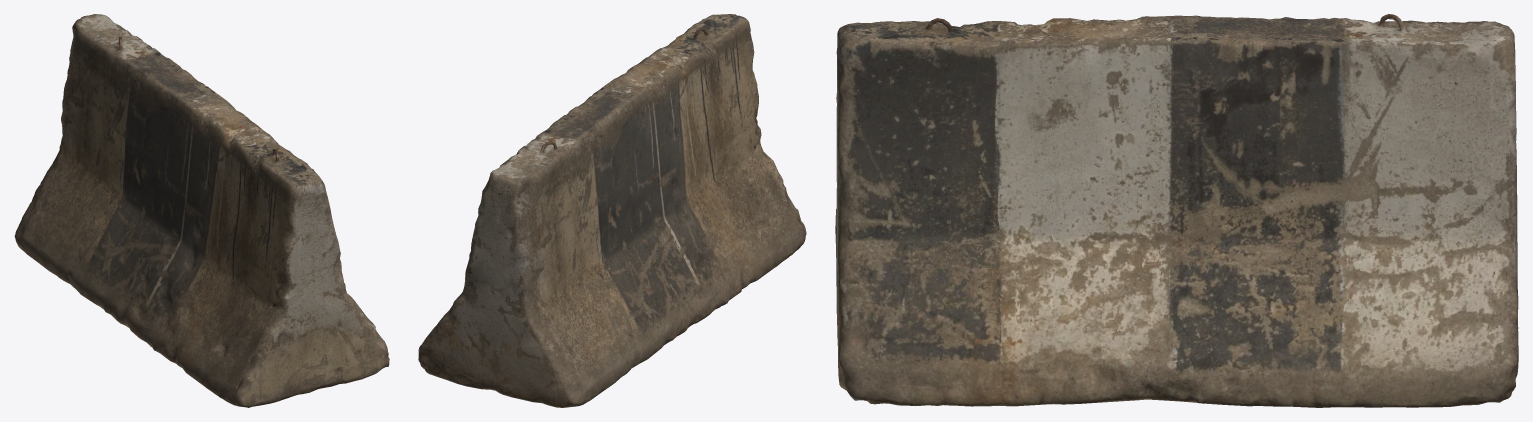
File: concrete_road_barrier.glb
3 renders of one model, left to right at view 1: azimuth 30°, elevation 25°; view 2: azimuth 150°, elevation 25°; view 3: azimuth 270°, elevation 25°, orthographic. The views are drawn at different scales.
Visible parts, largest first — view 1: concrete_road_barrier; view 2: concrete_road_barrier; view 3: concrete_road_barrier.
Part boxes in pixels (left/top/right/bottom): concrete_road_barrier: left=14, top=14, right=389, bottom=407; concrete_road_barrier: left=418, top=14, right=806, bottom=407; concrete_road_barrier: left=835, top=14, right=1518, bottom=407.
Size of the model in its own units: 0.6388 by 0.8305 by 1.55.
1 material, 1 textured.
